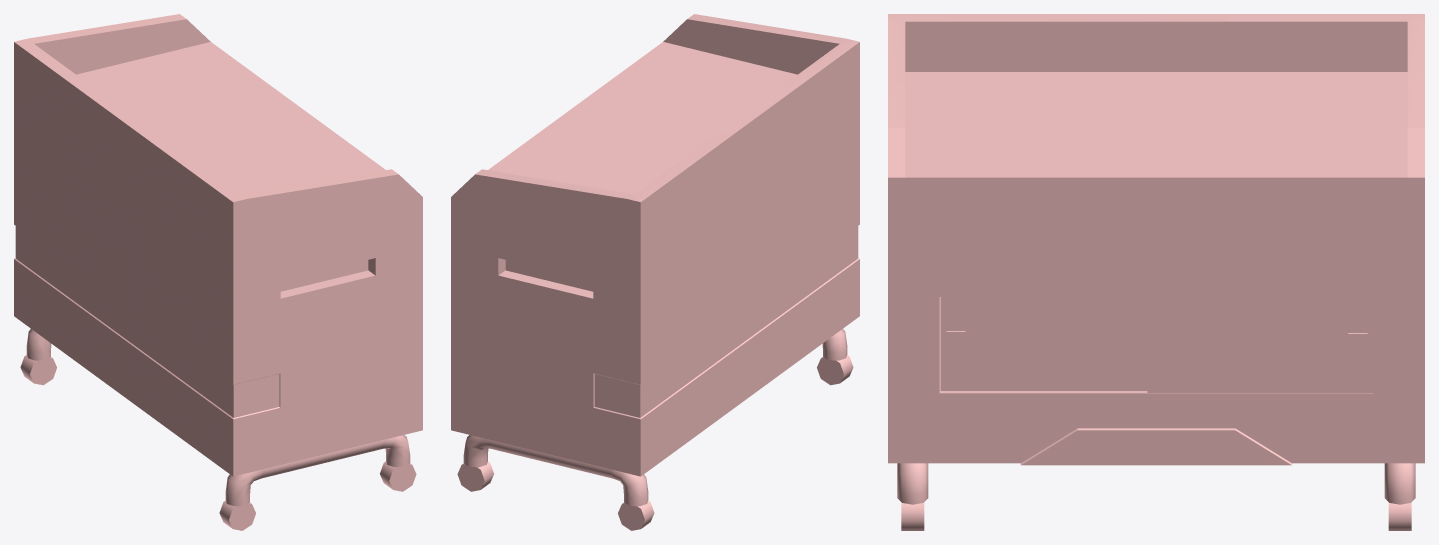
Rendered from FBX_Prop_Lab_Rolling_Cart_V2.fbx.
The picture shows the model from 3 angles, left to right: view 1: azimuth 30°, elevation 25°; view 2: azimuth 150°, elevation 25°; view 3: azimuth 270°, elevation 25°; orthographic projection. The views are drawn at different scales.
Visible parts, largest first — view 1: Base, Top, Wheel_bars, Wheels; view 2: Base, Top, Wheel_bars, Wheels; view 3: Top, Base, Door_Right, Door_Left, Wheel_bars, Wheels.
Boxes of the visible parts, x1,y1,x2,y2 form: Base: (14, 91, 422, 476); Top: (14, 14, 422, 250); Wheel_bars: (26, 329, 410, 506); Wheels: (20, 355, 416, 530); Base: (451, 91, 859, 476); Top: (451, 14, 859, 250); Wheel_bars: (463, 329, 847, 506); Wheels: (457, 355, 853, 530); Top: (888, 14, 1424, 186); Base: (888, 187, 1424, 465); Door_Right: (1147, 211, 1373, 392); Door_Left: (940, 211, 1147, 390); Wheel_bars: (897, 463, 1415, 504); Wheels: (901, 502, 1411, 530).
Bounding box in the file's own units: 101 × 169 × 200.
